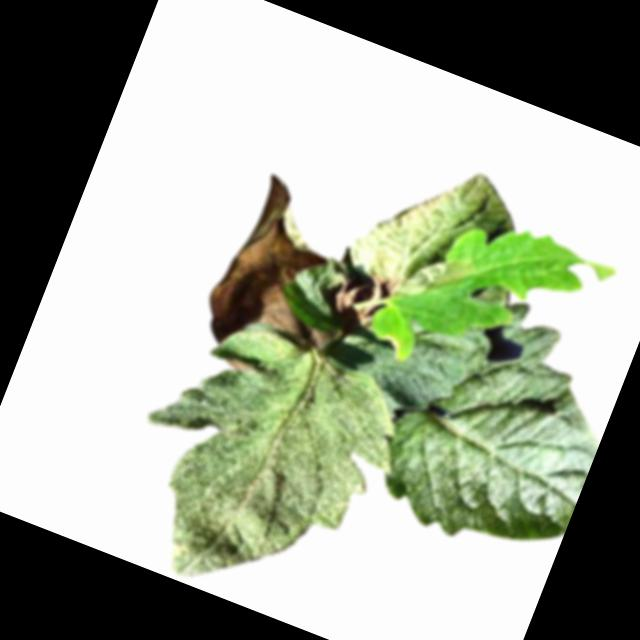Late_blight: (193, 166, 387, 386), (393, 239, 474, 317), (346, 265, 400, 332), (221, 351, 259, 377)
healthy: (97, 301, 419, 633), (363, 275, 636, 574)
